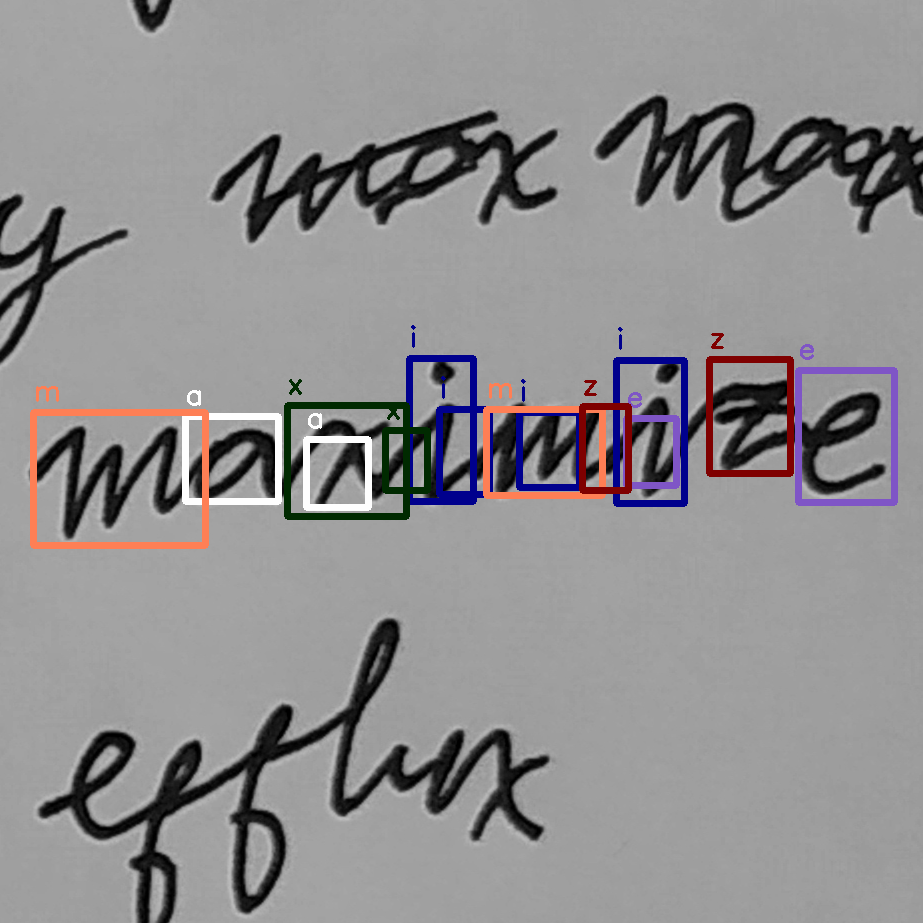a: (189, 421, 285, 509)
e: (794, 386, 891, 499)
i: (622, 354, 694, 501), (407, 354, 469, 512)
m: (52, 418, 186, 542), (483, 393, 609, 504)
x: (306, 410, 396, 512)
z: (701, 375, 809, 471)
